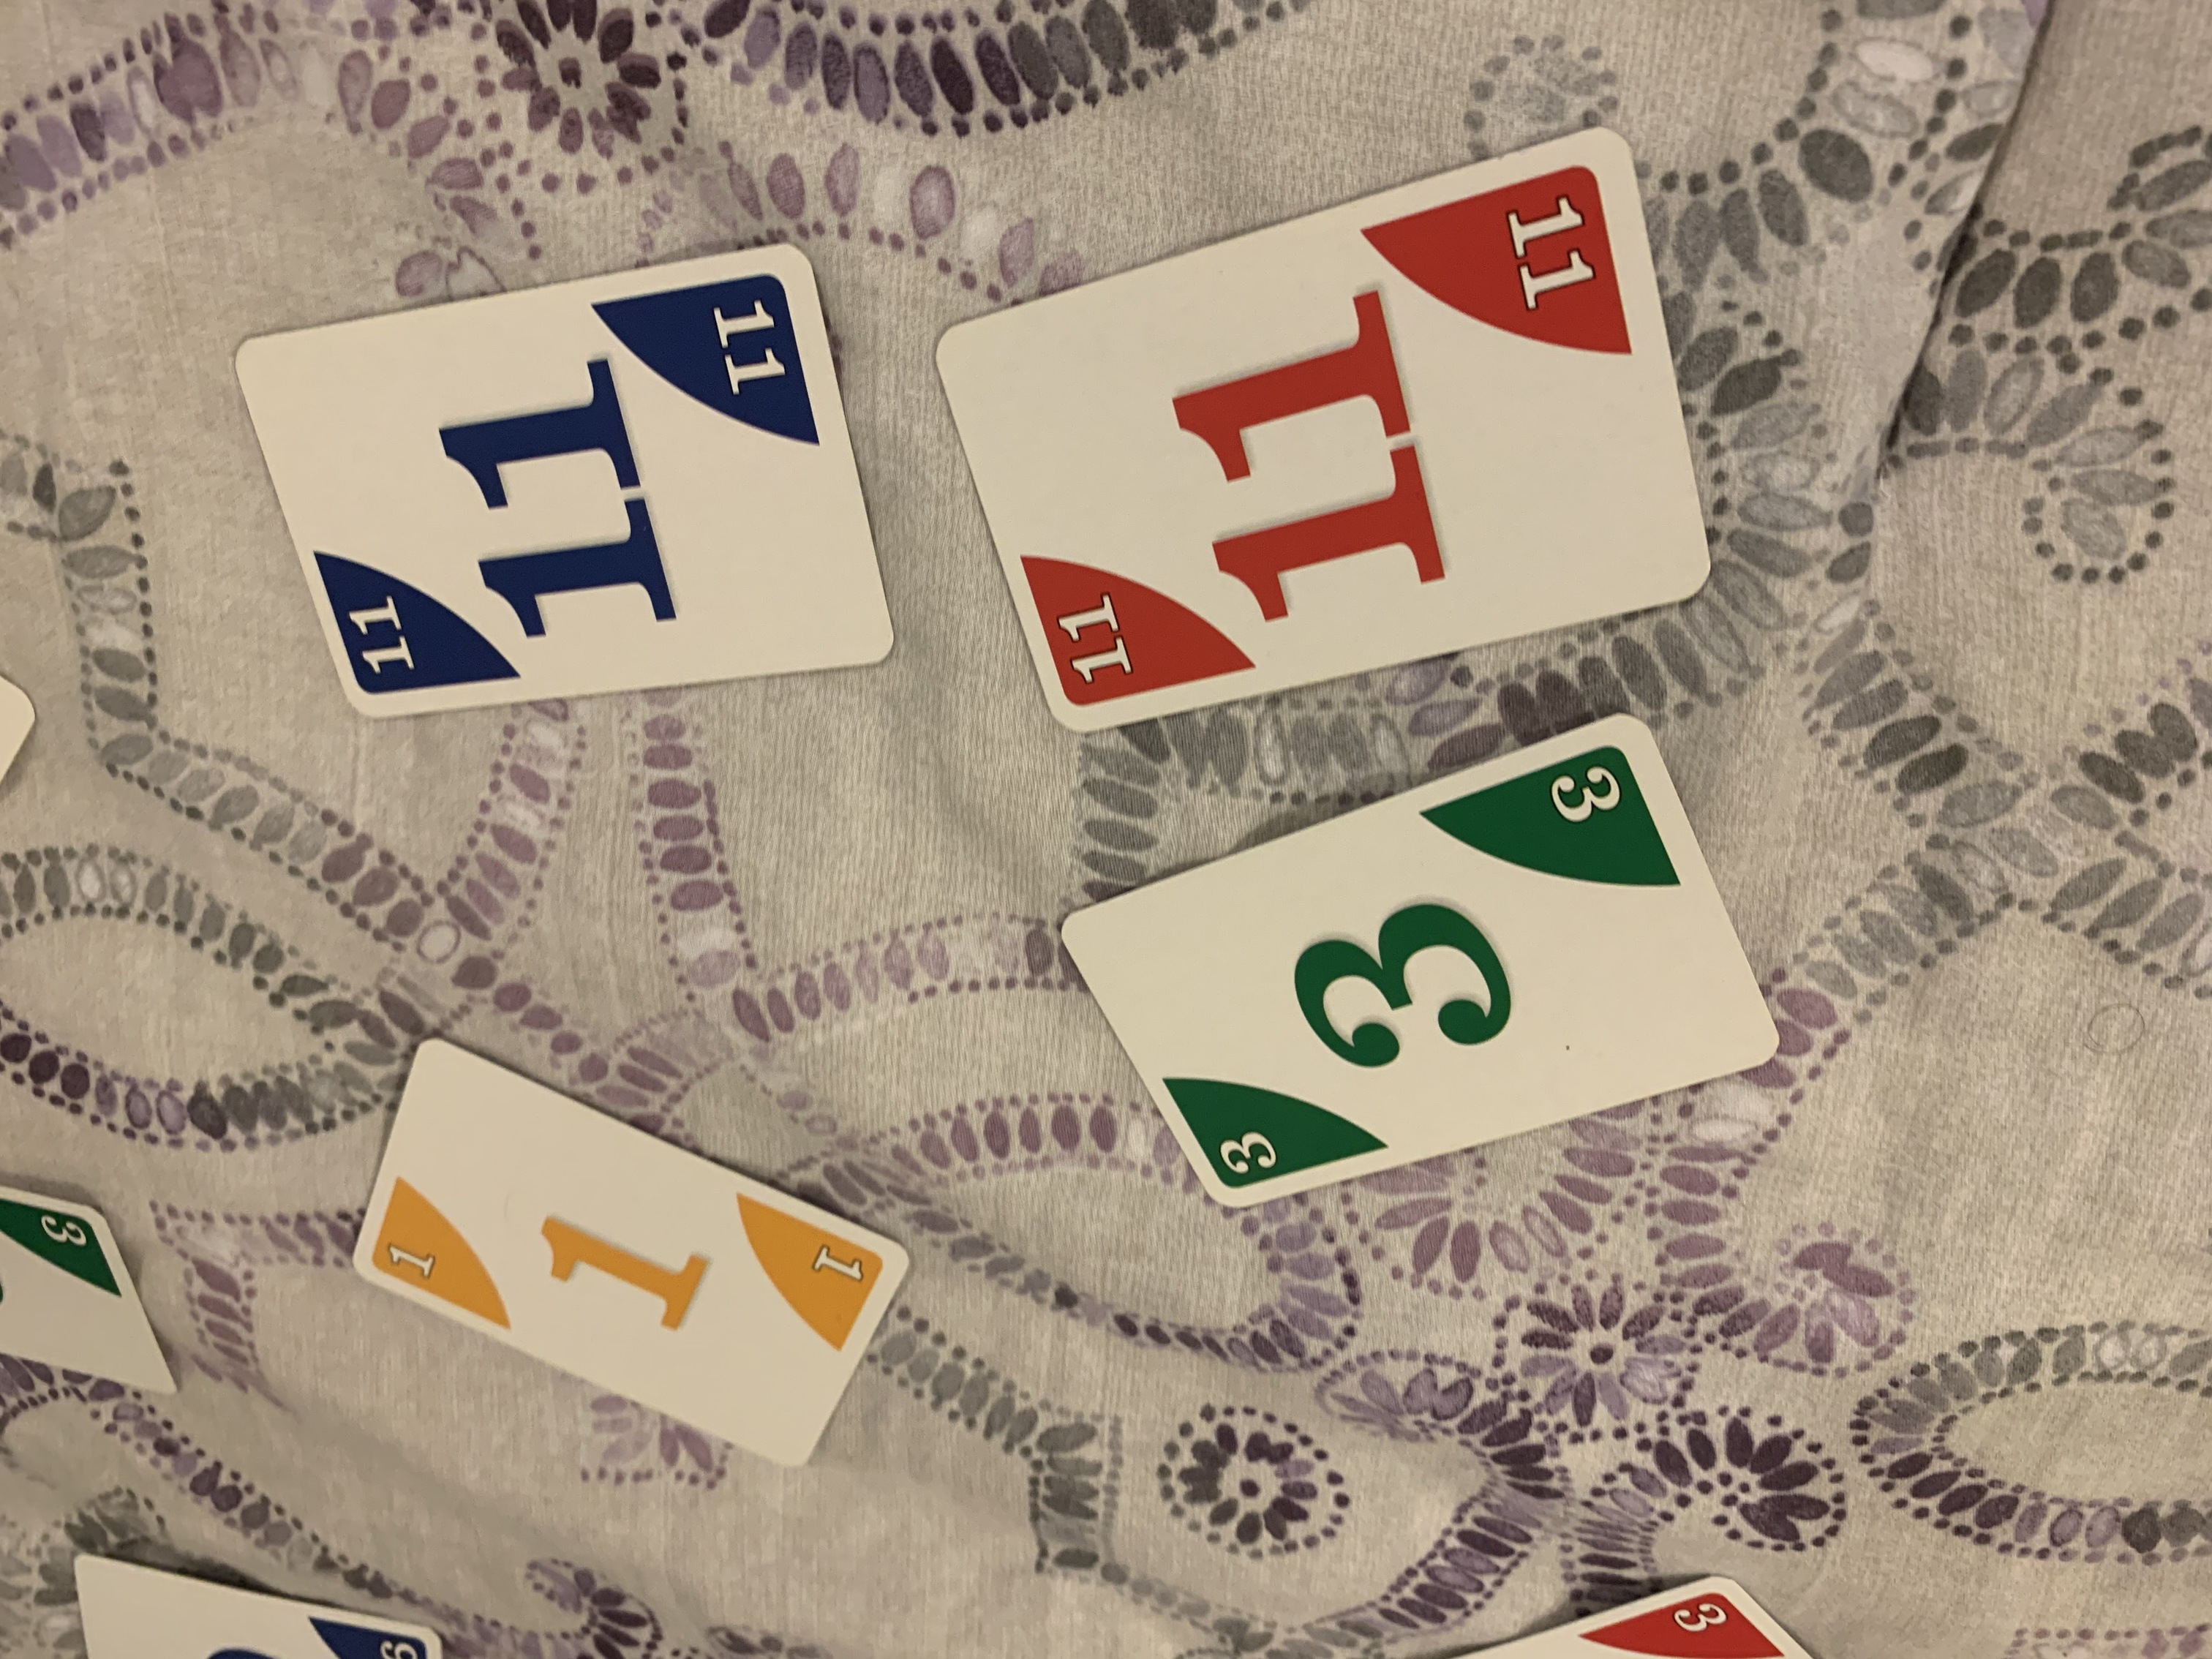eleven: (932, 120, 1712, 737), (225, 235, 897, 730)
one: (347, 1037, 913, 1473)
three: (1038, 709, 1789, 1220)
